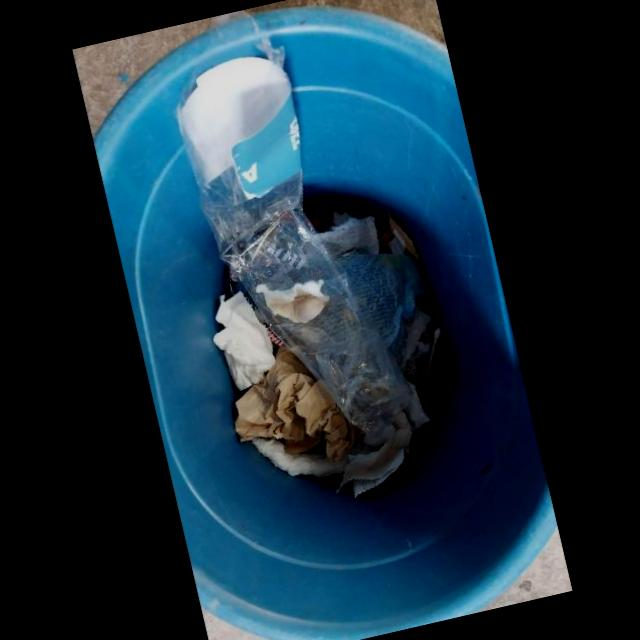giay: (233, 344, 363, 462), (212, 290, 275, 390), (335, 428, 412, 497)
tui_ni_long: (177, 54, 433, 447)
